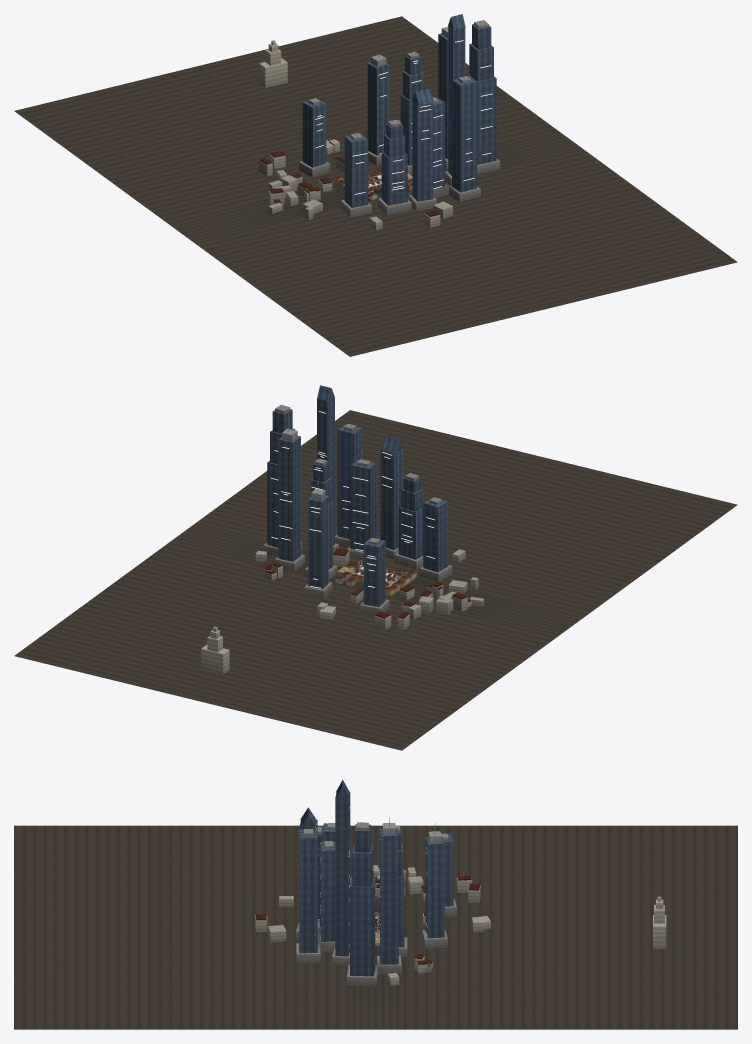
The model's file is ww2-street.glb.
The picture shows the model from 3 angles, top to bottom: view 1: azimuth 30°, elevation 25°; view 2: azimuth 150°, elevation 25°; view 3: azimuth 270°, elevation 25°; orthographic projection. The views are drawn at different scales.
Parts seen in each view (by area): view 1: Backdrop_Far, NOW_Skyline; view 2: Backdrop_Far, NOW_Skyline; view 3: Backdrop_Far, NOW_Skyline.
Part boxes in pixels (bbox=[...]): Backdrop_Far: bbox=[14, 16, 737, 356]; NOW_Skyline: bbox=[299, 14, 500, 217]; Backdrop_Far: bbox=[14, 410, 737, 750]; NOW_Skyline: bbox=[263, 385, 452, 615]; Backdrop_Far: bbox=[14, 825, 737, 1029]; NOW_Skyline: bbox=[296, 780, 456, 986].
Size of the model in its own units: 800 by 328 by 1200.
17 materials, 15 textured.
